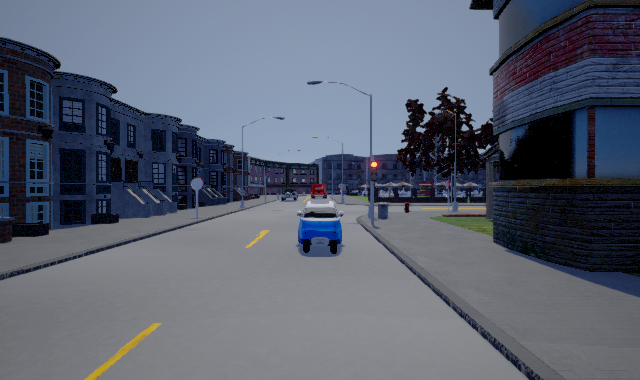traffic_light: (369, 159, 379, 182)
traffic_sign: (338, 183, 344, 189)
vehicle: (297, 202, 344, 254), (309, 183, 328, 199), (280, 188, 299, 201)
